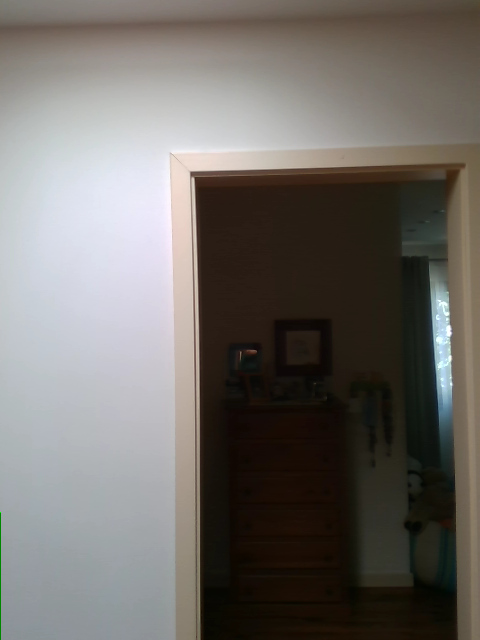open: (169, 141, 479, 639)
